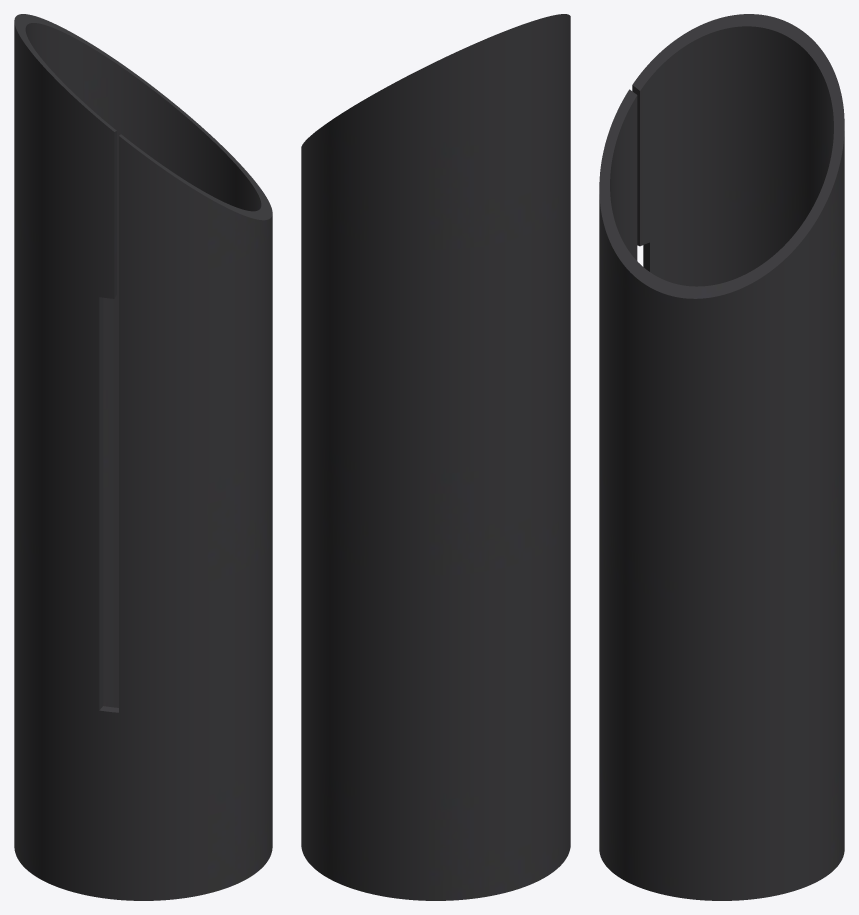
The model's file is 02_strelec_cerna.glb.
3 renders of one model, left to right at view 1: azimuth 30°, elevation 25°; view 2: azimuth 150°, elevation 25°; view 3: azimuth 270°, elevation 25°, orthographic. The views are drawn at different scales.
Parts seen in each view (by area): view 1: 02_strelec_cerna; view 2: 02_strelec_cerna; view 3: 02_strelec_cerna.
Part boxes in pixels (x1=…): 02_strelec_cerna: x1=14, y1=14, x2=272, y2=900; 02_strelec_cerna: x1=301, y1=14, x2=570, y2=900; 02_strelec_cerna: x1=599, y1=14, x2=844, y2=900.
Size of the model in its own units: 0.03 by 0.106 by 0.03.
1 material, 1 textured.
